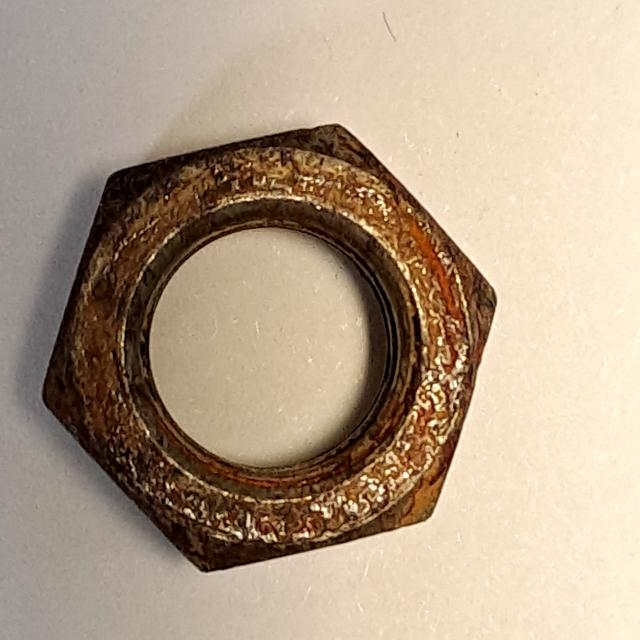Rust: (29, 107, 508, 591)
